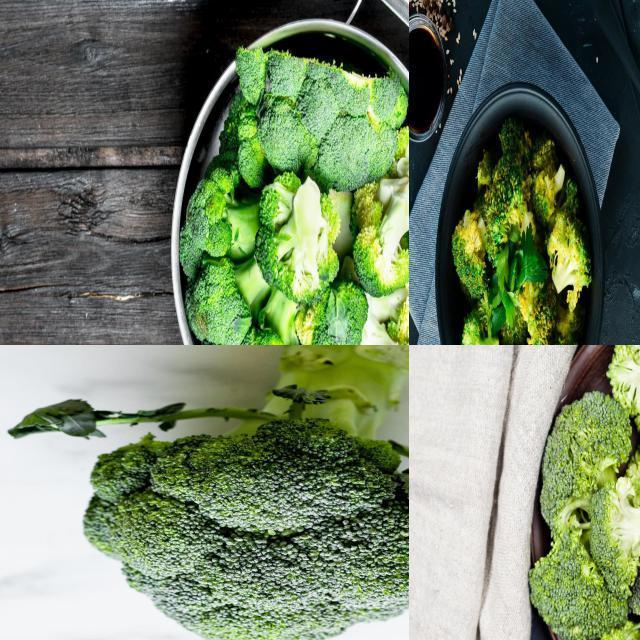broccoli: (82, 345, 408, 639), (176, 168, 306, 344), (541, 395, 639, 532), (252, 172, 341, 308), (584, 476, 639, 600), (341, 249, 408, 344), (355, 182, 408, 296), (479, 146, 527, 268), (546, 200, 596, 302), (288, 282, 366, 344), (450, 204, 494, 301), (532, 137, 570, 223), (463, 316, 503, 344)
